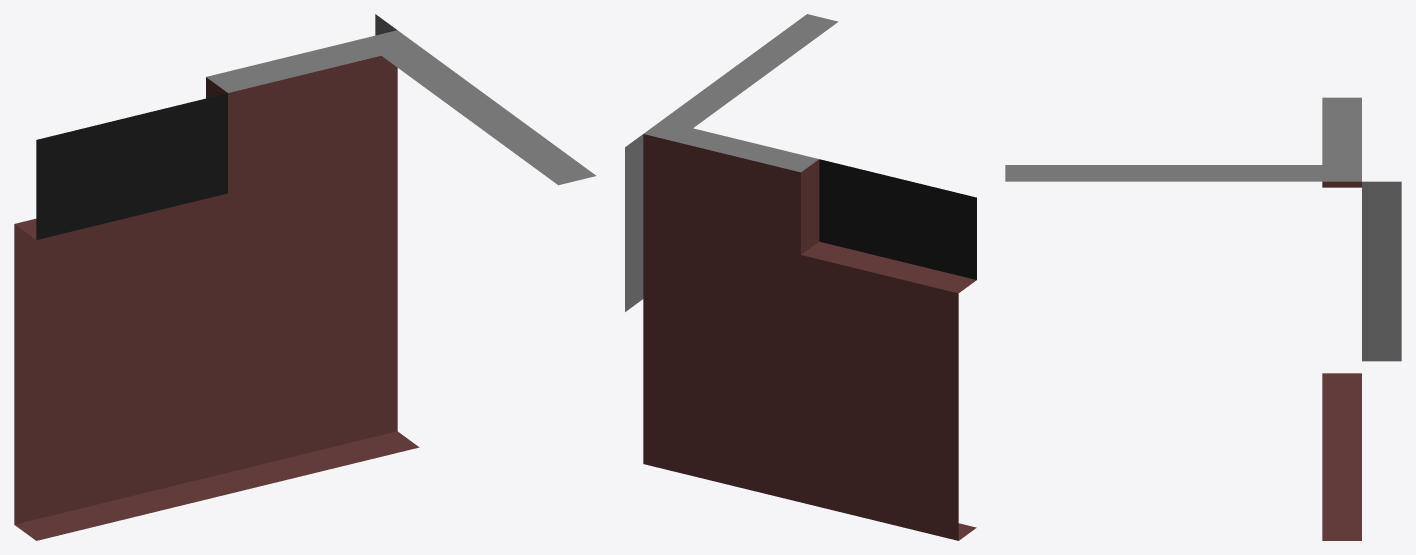
File: Straight_Edge_Wall_Roof_Left.obj
3 renders of one model, left to right at view 1: azimuth 30°, elevation 25°; view 2: azimuth 150°, elevation 25°; view 3: azimuth 270°, elevation 25°, orthographic. The views are drawn at different scales.
Visible parts, largest first — view 1: Straight_Edge_Wall_Roof_Left; view 2: Straight_Edge_Wall_Roof_Left; view 3: Straight_Edge_Wall_Roof_Left.
Boxes of the visible parts, x1,y1,x2,y2 form: Straight_Edge_Wall_Roof_Left: (14,14,596,540); Straight_Edge_Wall_Roof_Left: (625,14,976,540); Straight_Edge_Wall_Roof_Left: (1005,97,1401,540).
Size of the model in its own units: 1 by 1 by 1.
